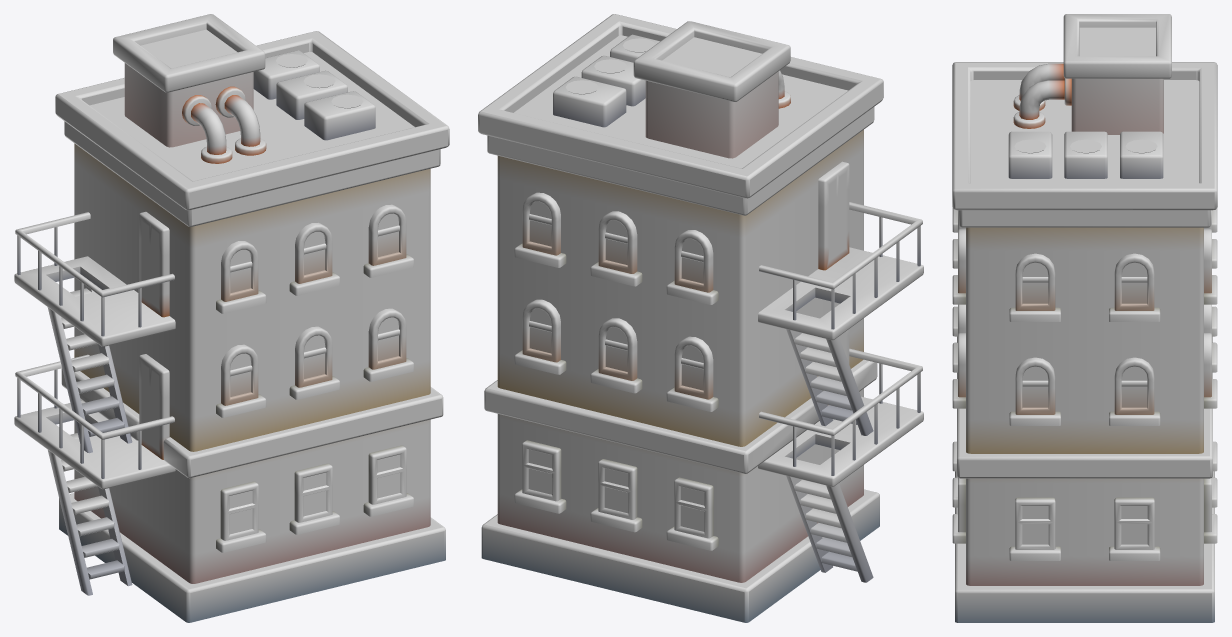
File: NF_Bld_Apartment 15.fbx
The picture shows the model from 3 angles, left to right: view 1: azimuth 30°, elevation 25°; view 2: azimuth 150°, elevation 25°; view 3: azimuth 270°, elevation 25°; orthographic projection. The views are drawn at different scales.
Visible parts, largest first — view 1: Apart_15; view 2: Apart_15; view 3: Apart_15.
Boxes of the visible parts, bbox=[...] form: Apart_15: bbox=[14, 14, 449, 622]; Apart_15: bbox=[478, 14, 923, 622]; Apart_15: bbox=[952, 14, 1217, 622].
Bounding box in the file's own units: 9.47 × 13.88 × 6.67.
